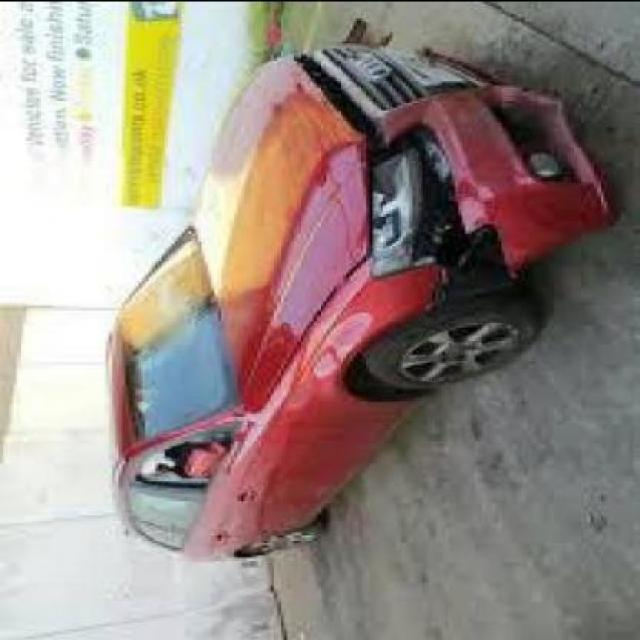damage: (291, 48, 608, 304)
